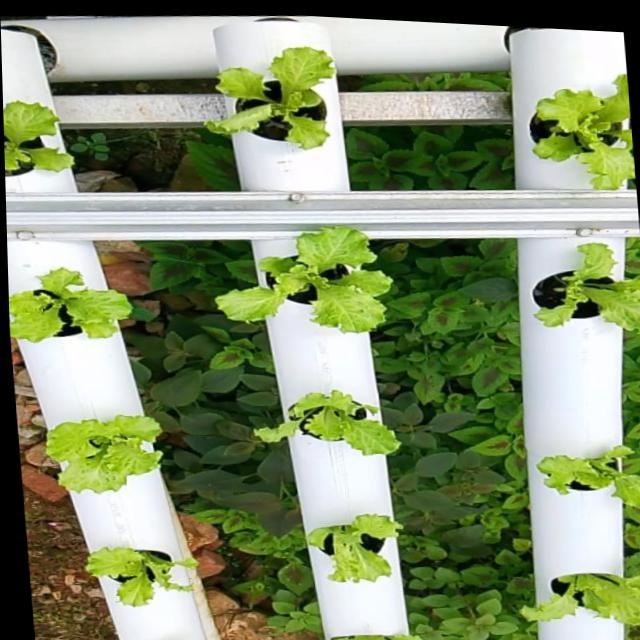Baby: (215, 227, 393, 332), (204, 45, 337, 149), (531, 73, 635, 188), (255, 390, 402, 455), (533, 242, 640, 331), (45, 415, 162, 494), (9, 268, 132, 343), (85, 548, 198, 607), (307, 514, 403, 583), (538, 445, 640, 508), (524, 573, 640, 626), (3, 100, 72, 175)
